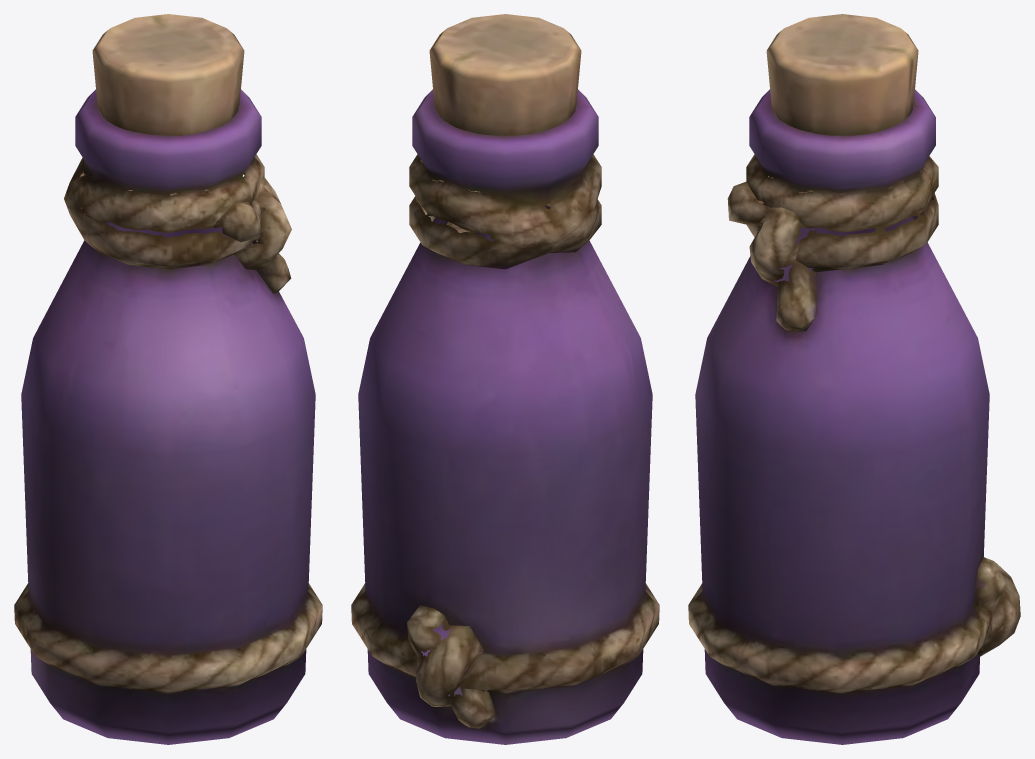
The picture shows the model from 3 angles, left to right: view 1: azimuth 30°, elevation 25°; view 2: azimuth 150°, elevation 25°; view 3: azimuth 270°, elevation 25°; orthographic projection.
Parts seen in each view (by area): view 1: SM_Lesser_Purple_Potion_LOD0; view 2: SM_Lesser_Purple_Potion_LOD0; view 3: SM_Lesser_Purple_Potion_LOD0.
Part boxes in pixels (left/top/right/bottom): SM_Lesser_Purple_Potion_LOD0: left=14, top=14, right=322, bottom=744; SM_Lesser_Purple_Potion_LOD0: left=351, top=14, right=659, bottom=744; SM_Lesser_Purple_Potion_LOD0: left=688, top=14, right=1020, bottom=744.
Bounding box in the file's own units: 0.1019 × 0.2372 × 0.1098.
1 material, 1 textured.
